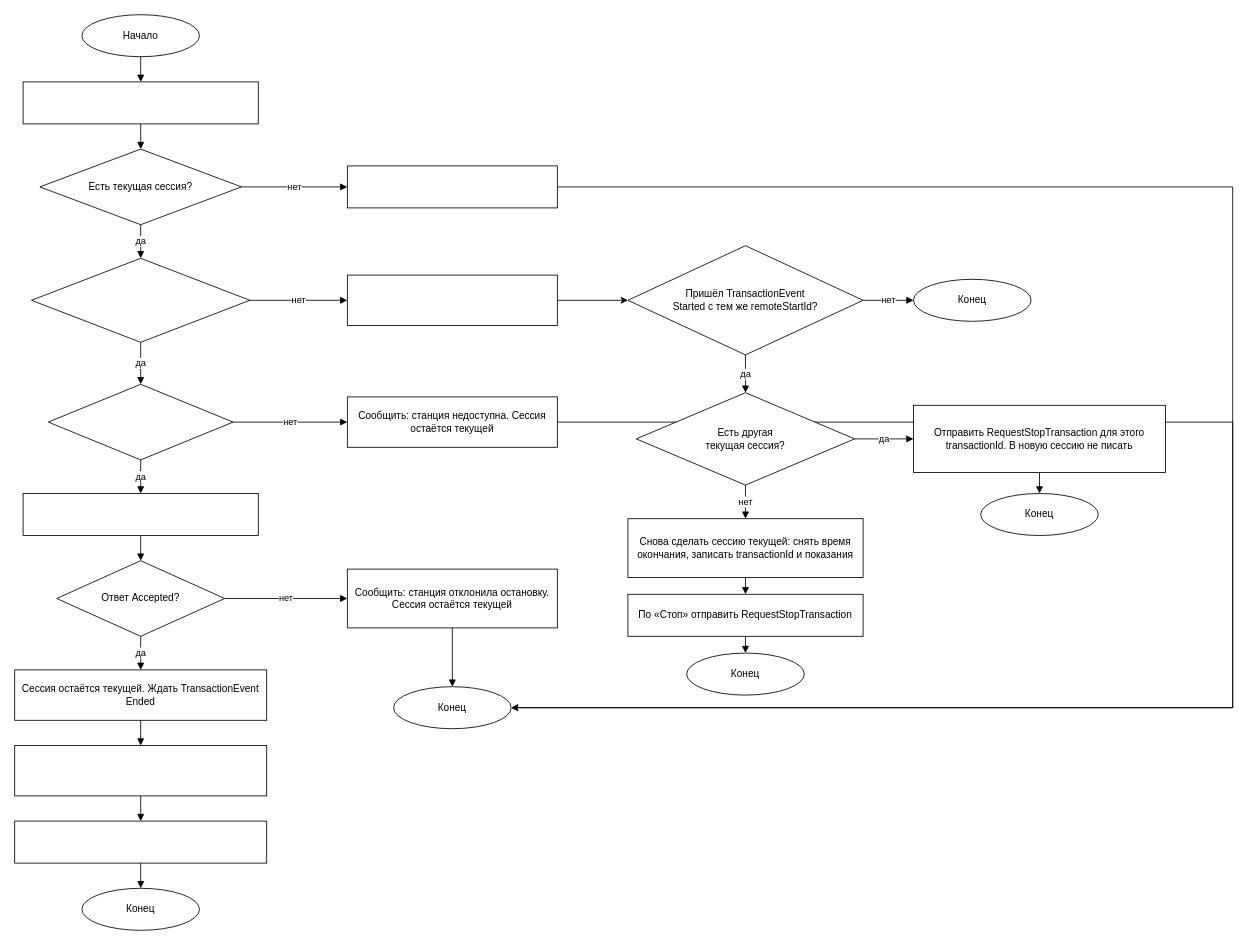
The diagram is 1254 pixels wide and 945 high, and some of its shapes have lost their labels. The centre of each missing label's shape, as x and y in pixels:
Завершить локально: время окончания - сейчас: the point at 451,300
Записать время окончания, конечное показание и цену из профиля: the point at 140,770
Отправить RequestStopTransaction: the point at 140,514
Получена команда «Стоп»: the point at 140,102
Сессия завершена и показана в истории: the point at 140,841
Сообщить: нет активной сессии: the point at 451,186
Станция на связи?: the point at 140,421
У сессии есть transactionId?: the point at 140,299
